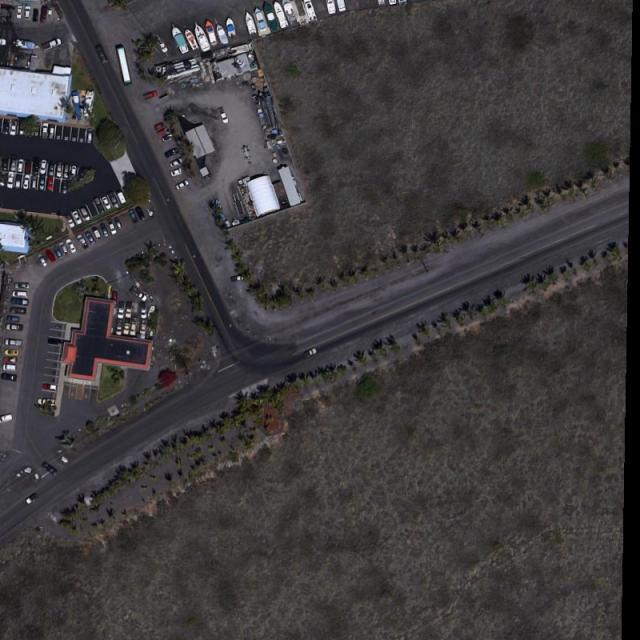vehicle: (131, 286, 146, 301), (43, 38, 60, 50), (219, 107, 230, 125), (107, 193, 119, 208), (42, 462, 56, 474), (134, 206, 145, 221), (71, 210, 82, 225), (117, 189, 127, 205), (163, 148, 179, 158), (76, 234, 86, 249), (80, 208, 90, 223), (26, 494, 38, 506), (95, 200, 106, 213), (66, 238, 76, 252), (37, 253, 47, 267), (13, 298, 30, 306), (8, 173, 16, 190), (129, 209, 138, 224), (99, 222, 108, 237), (303, 349, 318, 358), (107, 221, 117, 234), (46, 249, 56, 262), (102, 198, 112, 211), (144, 92, 157, 102), (170, 158, 183, 168), (10, 120, 18, 136), (38, 399, 54, 407), (85, 231, 94, 245), (53, 245, 62, 259), (175, 180, 189, 189), (30, 175, 38, 190), (38, 175, 46, 190), (24, 159, 32, 174), (66, 215, 75, 228), (153, 121, 166, 130), (163, 133, 176, 142), (1, 415, 14, 424), (118, 302, 125, 318), (14, 282, 28, 290), (6, 323, 22, 330), (147, 306, 155, 320), (123, 319, 130, 335), (23, 174, 30, 190), (130, 320, 138, 334), (156, 129, 170, 137), (140, 321, 148, 335), (42, 384, 58, 391), (92, 227, 101, 239), (58, 242, 67, 254), (12, 291, 27, 298), (10, 307, 25, 314), (46, 177, 53, 192), (2, 119, 9, 134), (114, 217, 122, 230), (170, 168, 183, 176), (5, 340, 22, 346), (116, 319, 122, 336), (42, 124, 49, 138), (230, 276, 244, 283), (140, 302, 146, 318), (49, 338, 61, 346), (63, 162, 69, 178), (40, 7, 46, 22), (125, 302, 131, 317), (1, 373, 16, 379), (2, 357, 16, 363), (71, 166, 78, 178), (40, 160, 46, 174), (57, 162, 62, 178), (16, 6, 22, 19), (5, 350, 18, 356), (16, 176, 22, 189), (33, 159, 38, 174), (20, 122, 26, 134), (49, 126, 55, 138), (112, 291, 118, 303), (10, 161, 17, 171), (2, 366, 16, 371), (33, 10, 39, 21), (6, 317, 19, 322), (17, 159, 22, 172), (2, 161, 9, 170), (1, 174, 6, 186), (62, 182, 67, 194), (50, 162, 54, 176), (88, 131, 93, 142), (25, 8, 30, 18), (1, 38, 6, 44)
